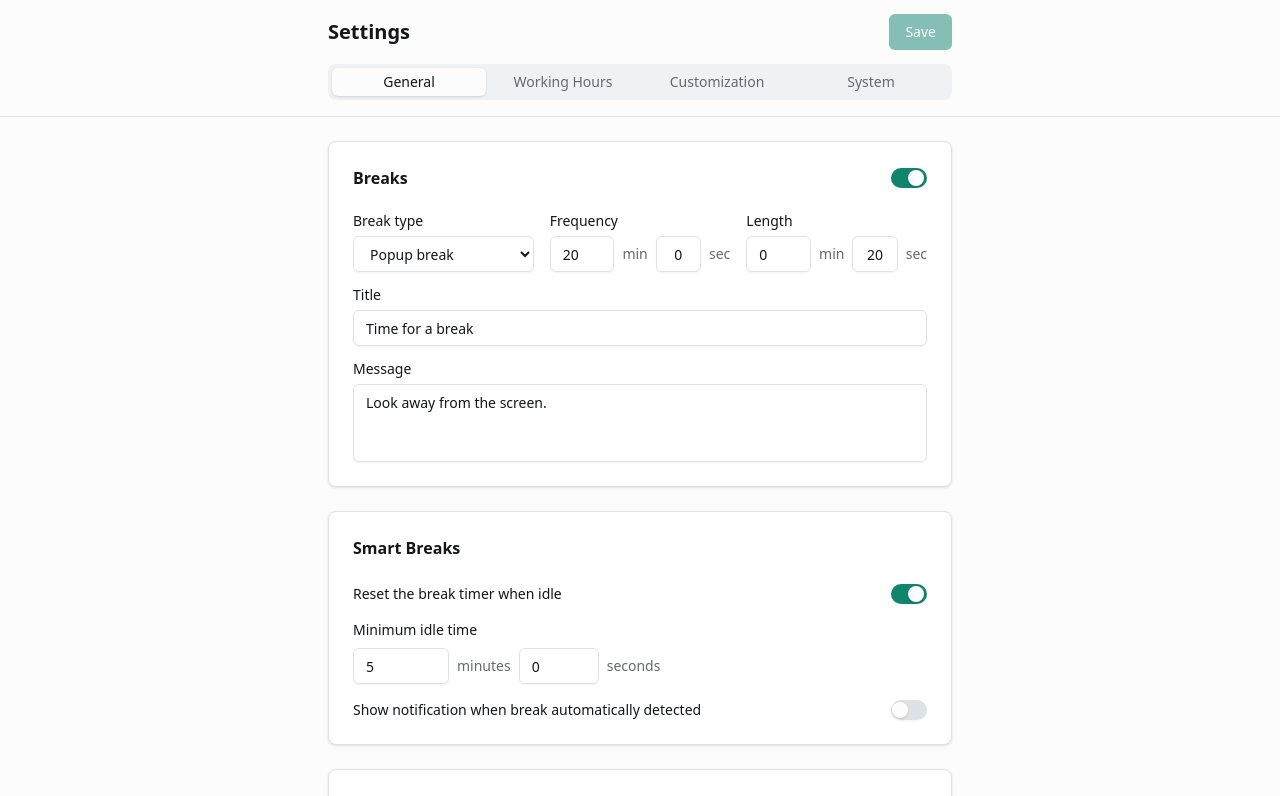
Scenario: SettingsWindow › adds a working-hours range from an icon-only button
Click the tab "Working Hours": (563, 82) [486, 68, 640, 96]
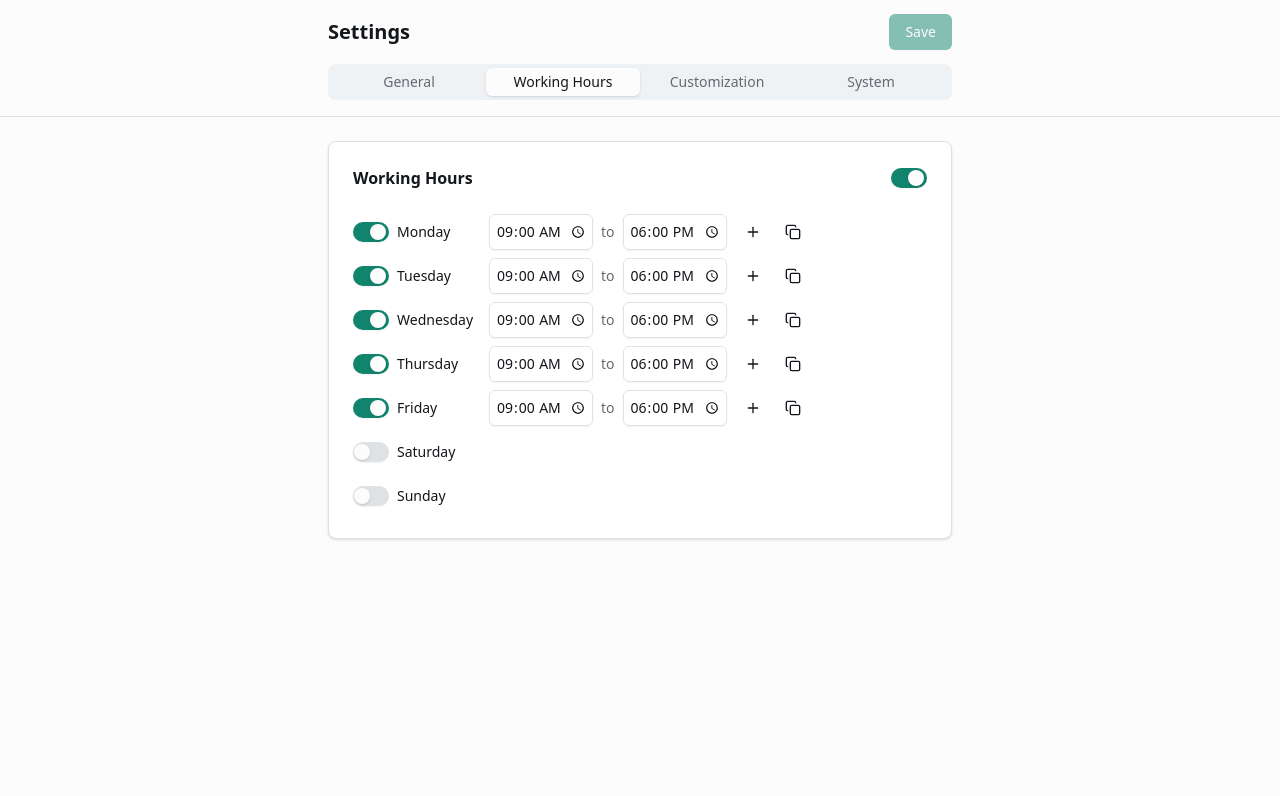
expect the button named "Add Monday range" is empty: met
Click the button named "Add Monday range": (752, 232) [734, 214, 770, 250]
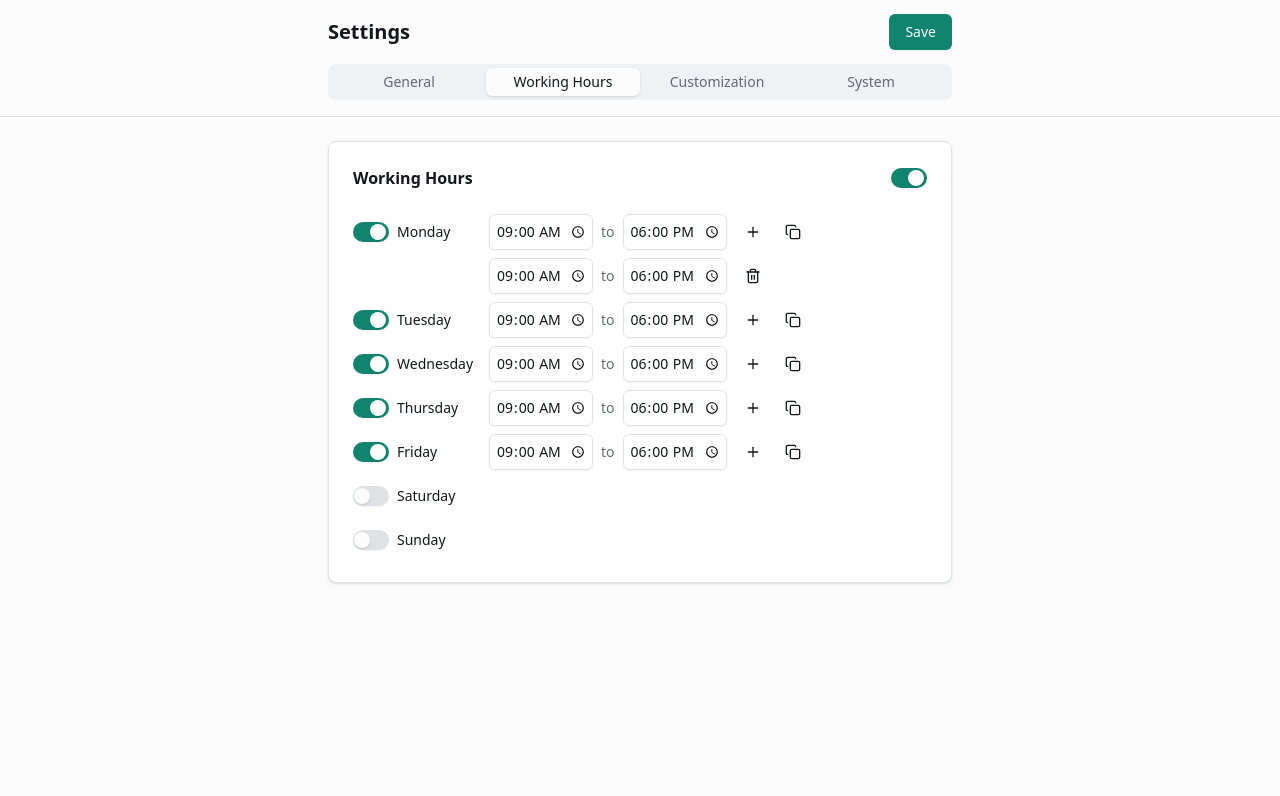
expect the time field named "Monday start 2" is shown: met, box [489, 258, 593, 294]
expect the button named "Remove Monday range 2" is shown: met, box [734, 258, 770, 294]
